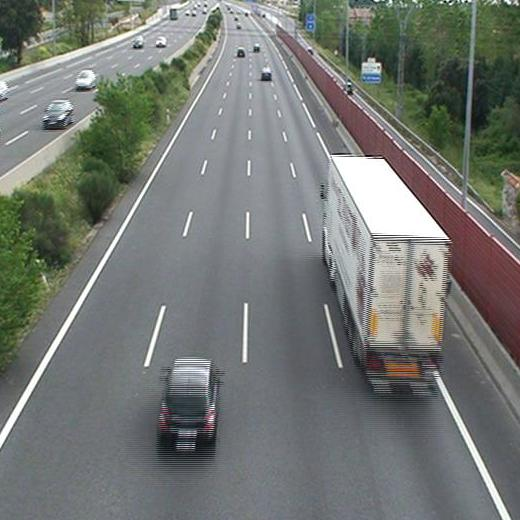car: (158, 359, 217, 437), (261, 67, 273, 79), (237, 48, 245, 56)
truck: (321, 155, 449, 379)
